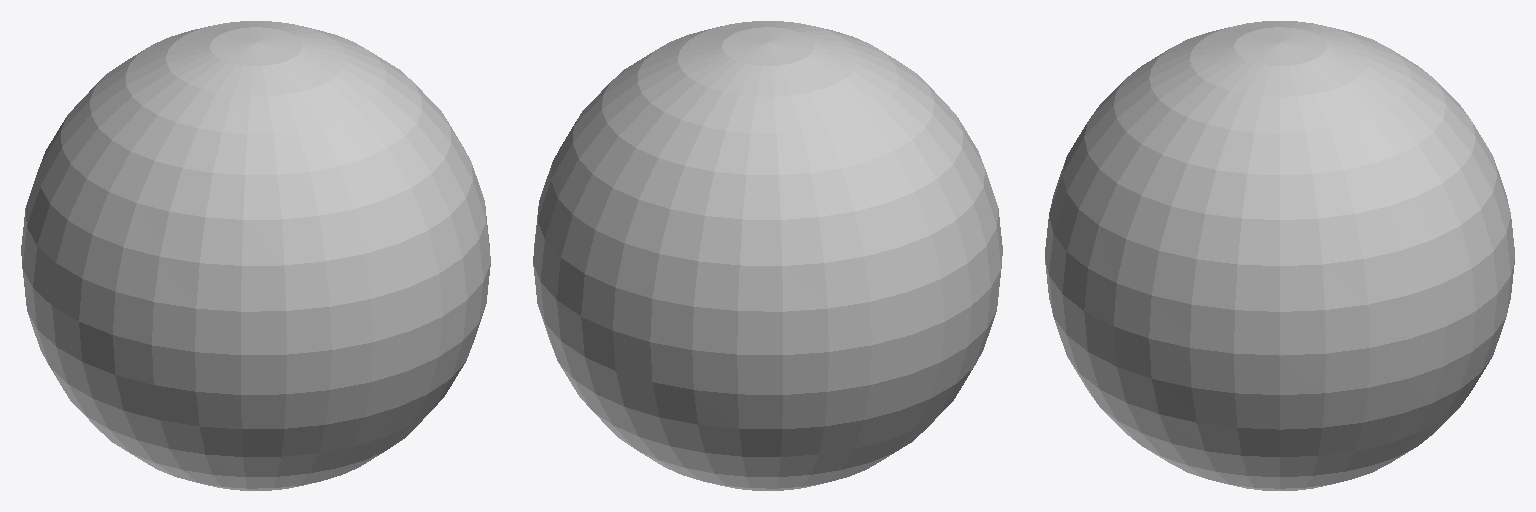
The model's file is phrenderformer_sphere_00.obj.
3 views of the same model, side by side, from view 1: azimuth 30°, elevation 25°; view 2: azimuth 150°, elevation 25°; view 3: azimuth 270°, elevation 25° (orthographic).
Visible parts, largest first — view 1: Sphere001; view 2: Sphere001; view 3: Sphere001.
Boxes of the visible parts, x1=… form: Sphere001: x1=21, y1=21, x2=490, y2=490; Sphere001: x1=533, y1=21, x2=1002, y2=490; Sphere001: x1=1045, y1=21, x2=1514, y2=490.
Bounding box in the file's own units: 1.15 × 1.15 × 1.15.